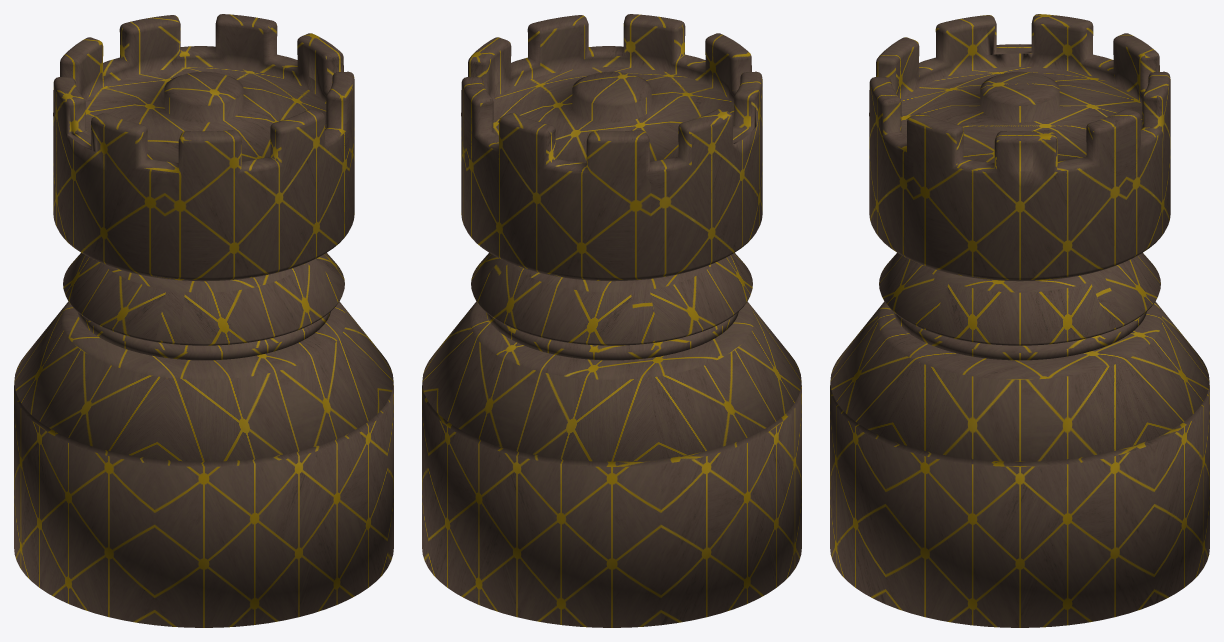
The model's file is ALL.gltf.
3 renders of one model, left to right at view 1: azimuth 30°, elevation 25°; view 2: azimuth 150°, elevation 25°; view 3: azimuth 270°, elevation 25°, orthographic.
Parts seen in each view (by area): view 1: RookBlack1; view 2: RookBlack1; view 3: RookBlack1.
Boxes of the visible parts, x1,y1,x2,y2 form: RookBlack1: [14, 14, 393, 627]; RookBlack1: [422, 14, 801, 627]; RookBlack1: [830, 14, 1209, 627].
Size of the model in its own units: 0.0182 by 0.025 by 0.0182.
Materials: 1 (1 with a texture image).
